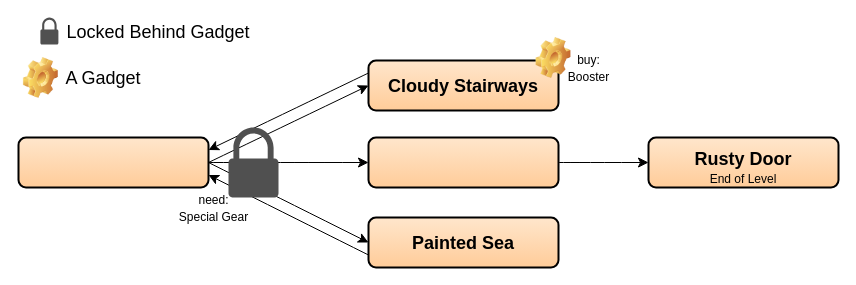
This 856x285 diagram has some shape labels left out. Here are the shapes that lost their labels. From the top down, the centre of each, then its label:
At point (113, 162): "Start".
At point (463, 162): "Thorny Path".
